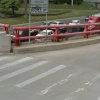Crosswalk: (3, 50, 78, 100)
